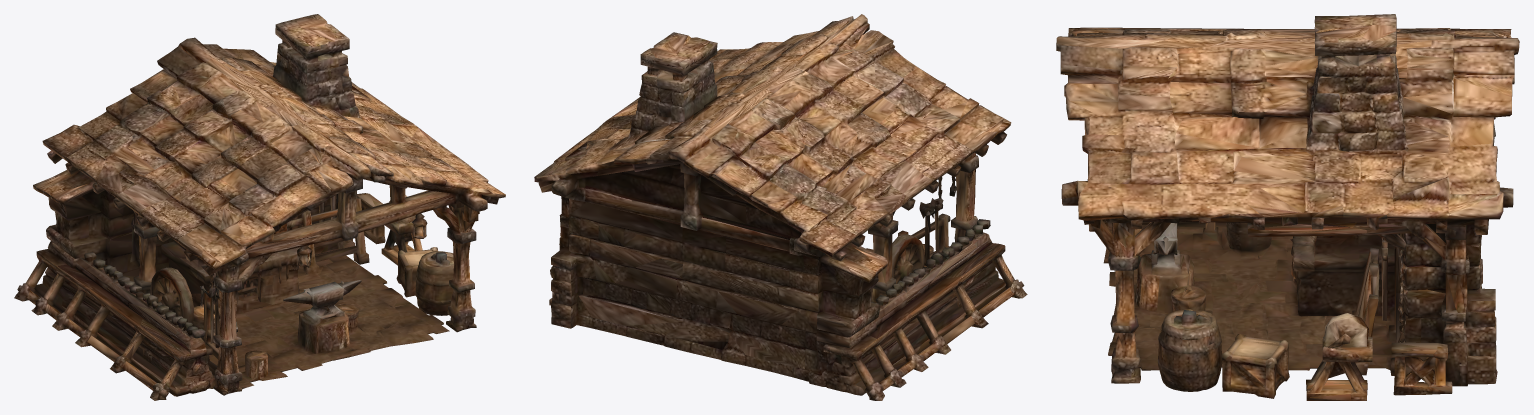
3 renders of one model, left to right at view 1: azimuth 30°, elevation 25°; view 2: azimuth 150°, elevation 25°; view 3: azimuth 270°, elevation 25°, orthographic. The views are drawn at different scales.
Parts seen in each view (by area): view 1: tripo_node_8fa027d4-9b9f-4ad6-b07f-6f6b15de335a; view 2: tripo_node_8fa027d4-9b9f-4ad6-b07f-6f6b15de335a; view 3: tripo_node_8fa027d4-9b9f-4ad6-b07f-6f6b15de335a.
Boxes of the visible parts, box(x1,y1,x2,y2) form: tripo_node_8fa027d4-9b9f-4ad6-b07f-6f6b15de335a: box(14, 14, 505, 400); tripo_node_8fa027d4-9b9f-4ad6-b07f-6f6b15de335a: box(534, 14, 1027, 400); tripo_node_8fa027d4-9b9f-4ad6-b07f-6f6b15de335a: box(1056, 14, 1519, 400).
Size of the model in its own units: 0.981 by 0.6619 by 0.8852.
Materials: 1 (1 with a texture image).
